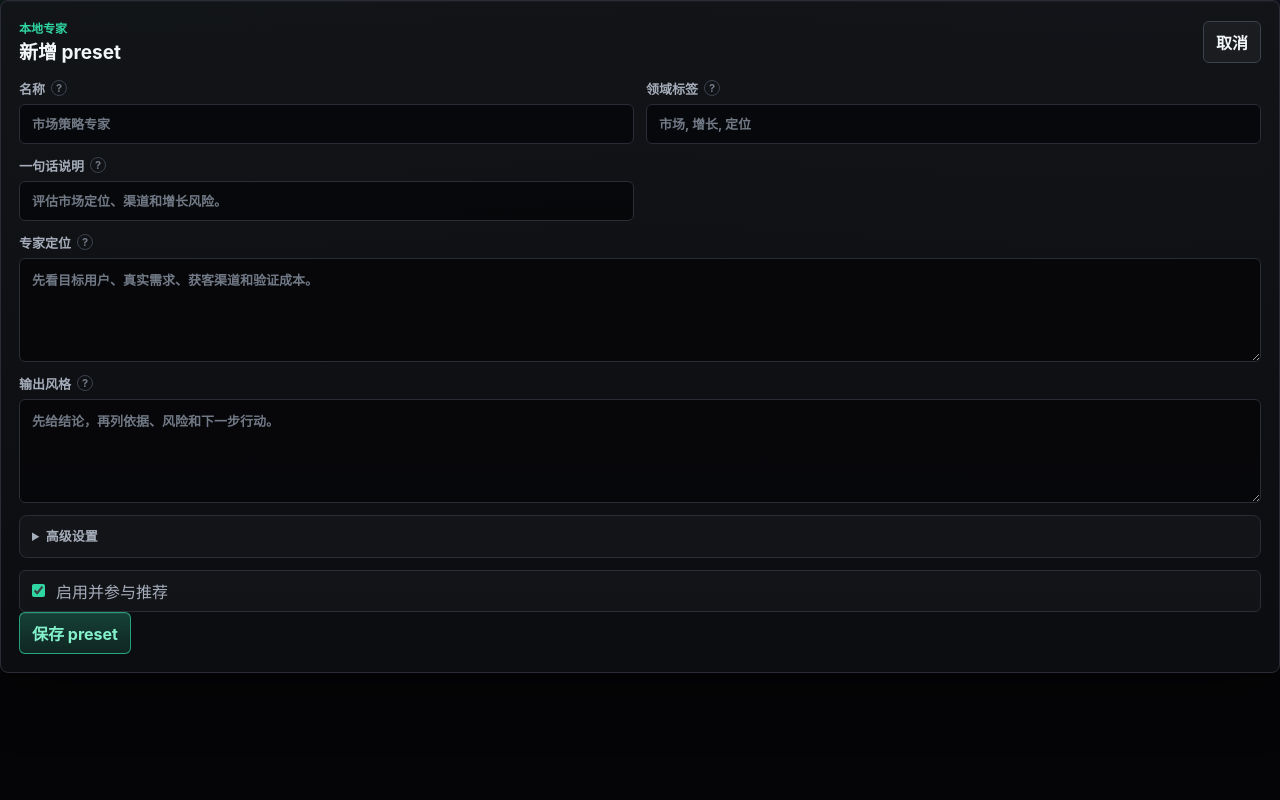
Scenario: expert preset editor › shows validation feedback instead of saving incomplete local presets
Step 1. Click the button "保存 preset" → coordinates (75, 633), box x1=19 y1=612 x2=131 y2=654
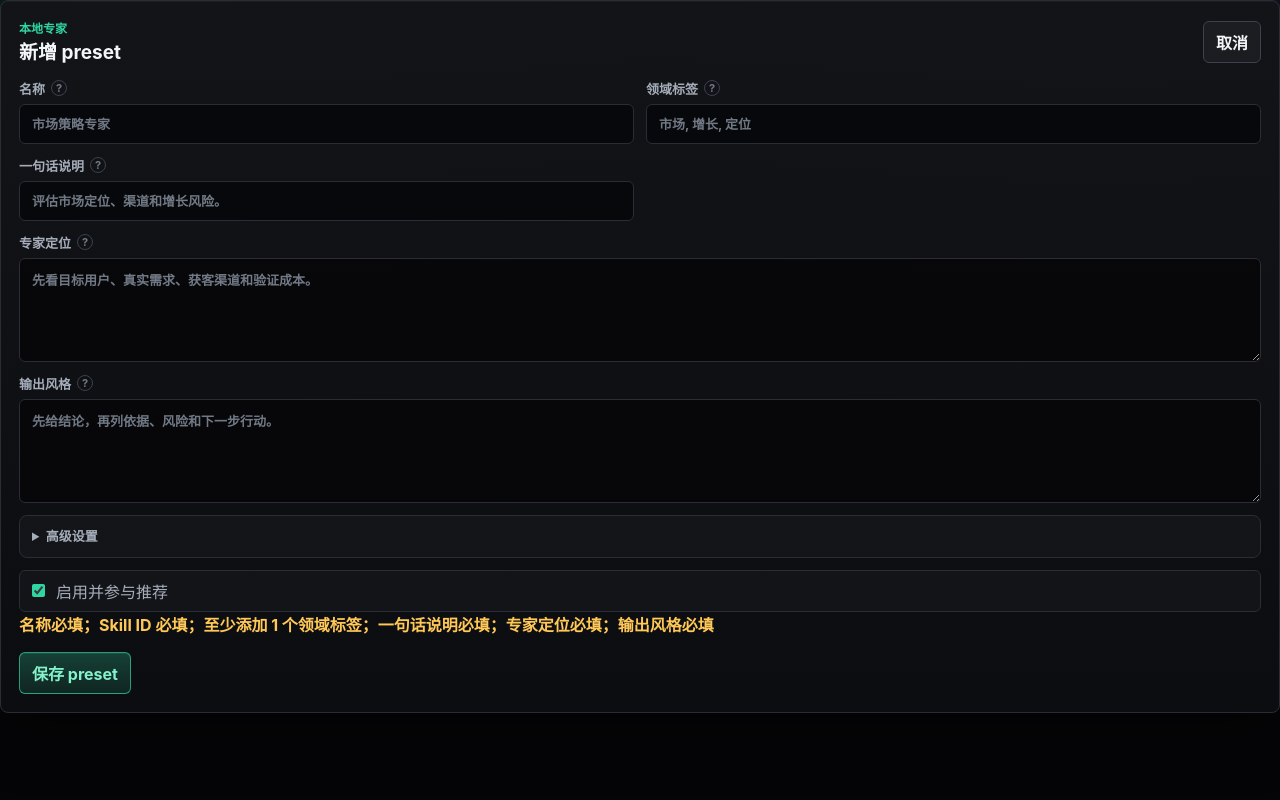
Check: the text "名称必填；Skill ID 必填；至少添加 1 个领域标签；一句话说明必填；专家定位必填；输出风格必填" is shown, box x1=19 y1=615 x2=714 y2=635
